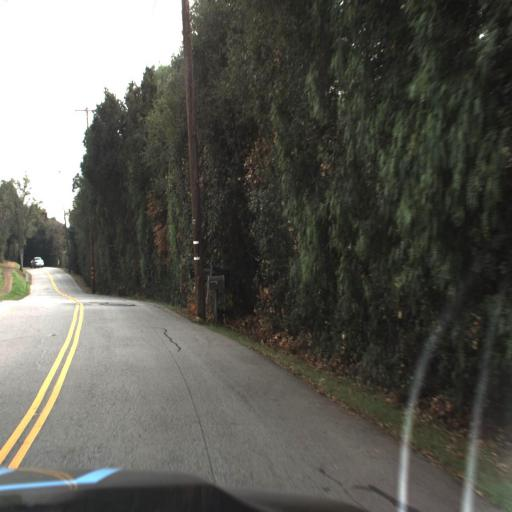car: (26, 250, 48, 271), (30, 254, 47, 266)
